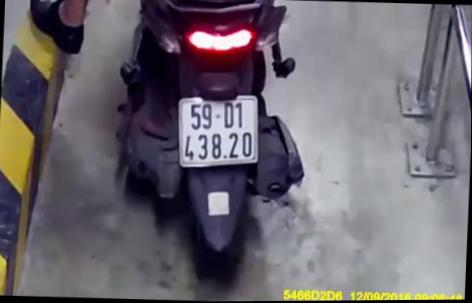LP: (177, 93, 262, 170)
